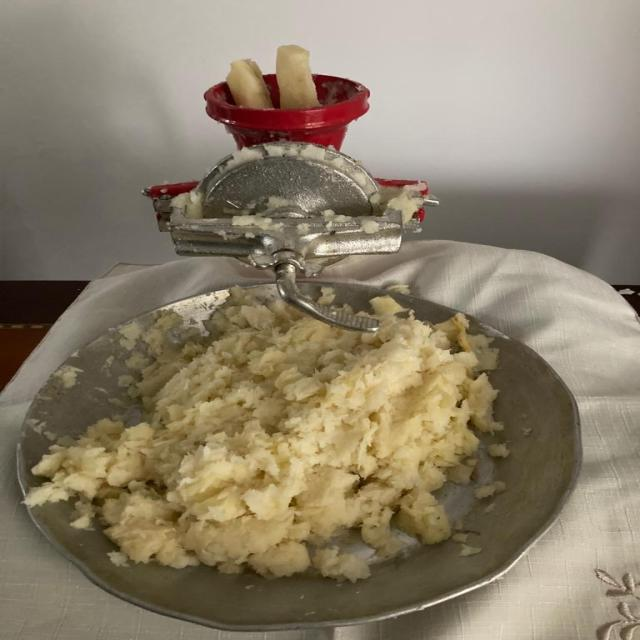papa: (49, 294, 526, 594)
